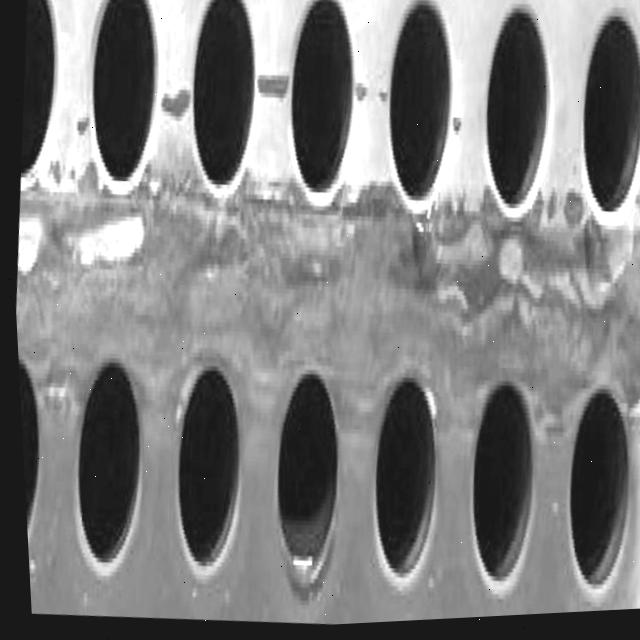Hole: (55, 352, 151, 576), (255, 361, 349, 587), (369, 0, 465, 221), (467, 3, 562, 226), (352, 368, 447, 591), (449, 374, 542, 596), (156, 358, 249, 579), (546, 383, 639, 603), (273, 0, 369, 213), (73, 0, 172, 199), (174, 0, 268, 205), (561, 10, 640, 233), (566, 24, 640, 223), (11, 0, 72, 186), (14, 347, 50, 567)
